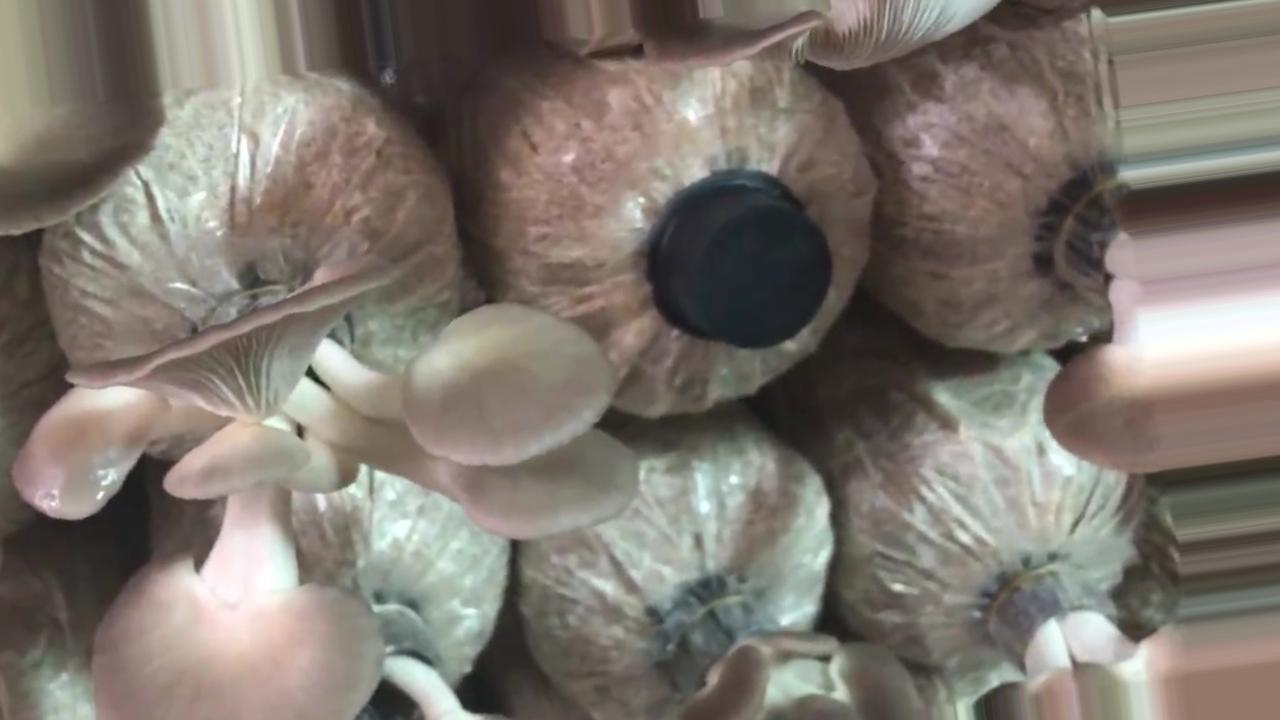nam: (15, 245, 642, 720), (1039, 178, 1280, 475)
